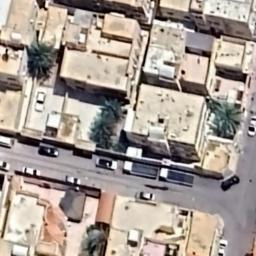sedan: (91, 156, 122, 172), (218, 174, 243, 192), (34, 84, 48, 114), (36, 144, 62, 158), (19, 164, 44, 178), (134, 188, 158, 202), (61, 174, 86, 186), (0, 134, 18, 150), (246, 112, 256, 138), (218, 235, 228, 256), (0, 156, 12, 172)
